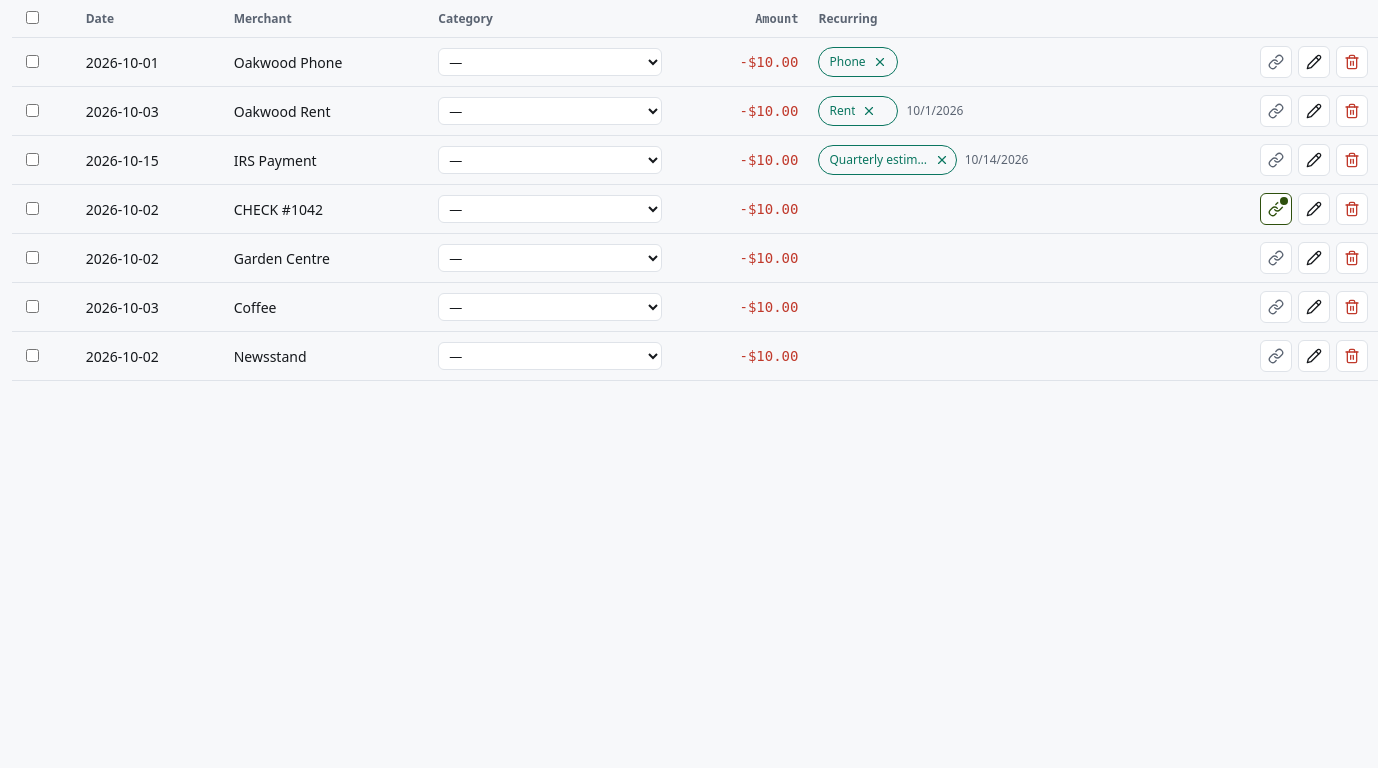
Test: recurring column and picker on the Transactions page › the picker › dismisses with Not this, keeps the picker open and refreshed, and puts focus on its first control
The width and height of the screenshot is (1378, 768).
Step 1. Click the button named "Link CHECK #1042 to a recurring item (suggestion: Rent)" → (1276, 209), box [1260,193,1292,225]
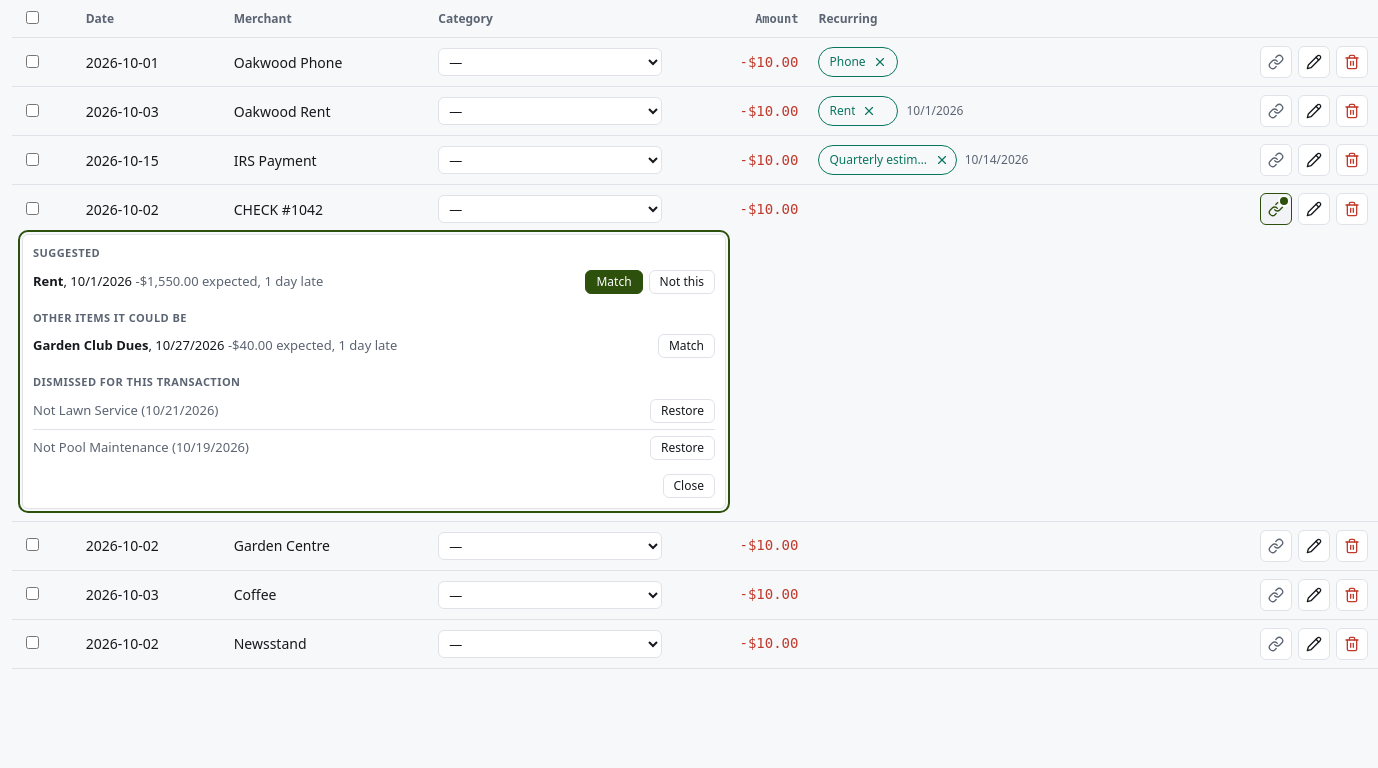
Step 2. Click the button with aria-label "CHECK #1042 is not Rent" → (682, 282), box [649,270,715,294]
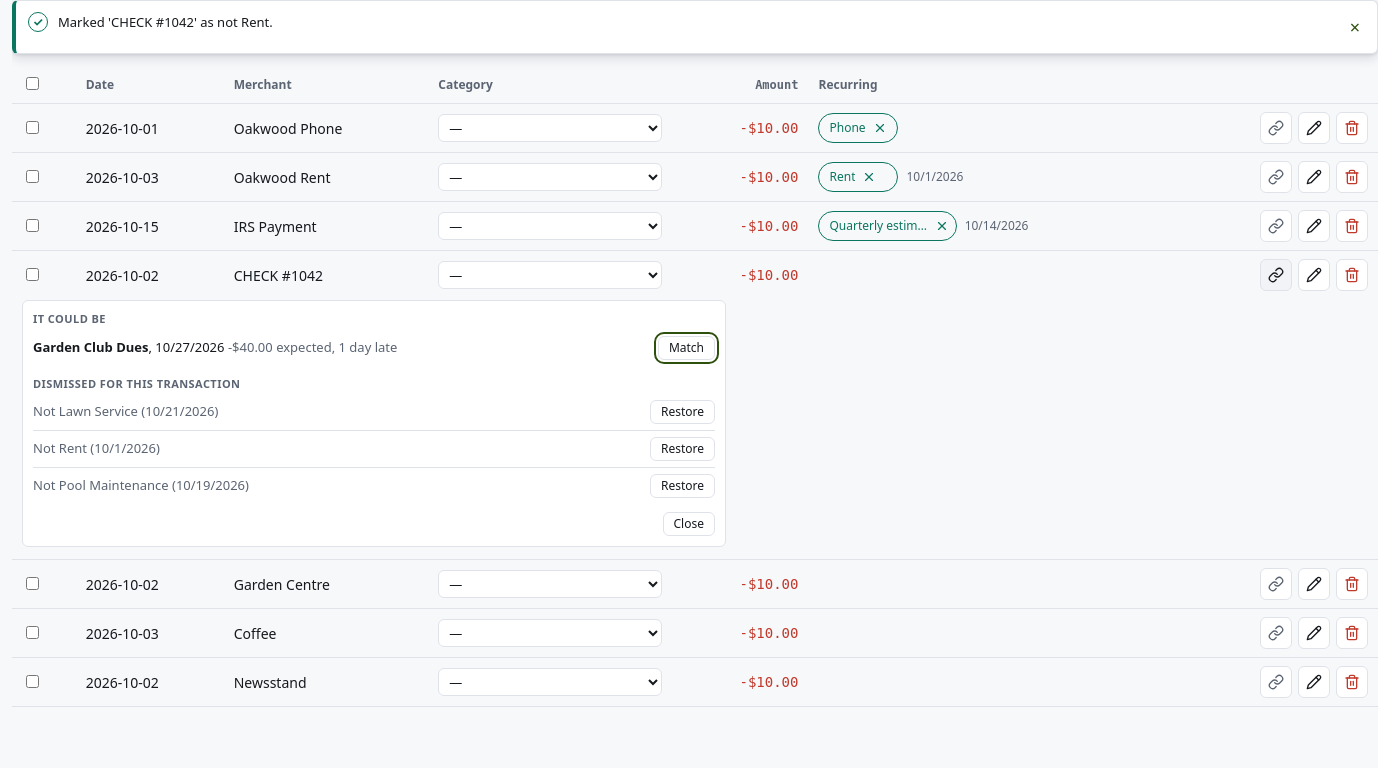
Expected: the text "Suggested" is gone
